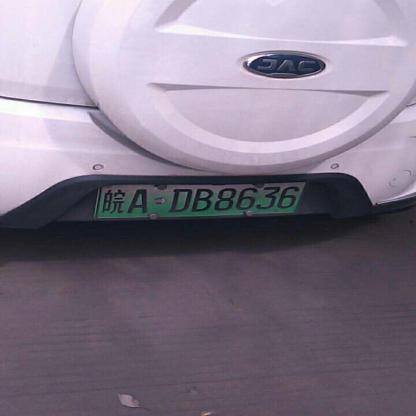lp: (98, 181, 306, 217)
